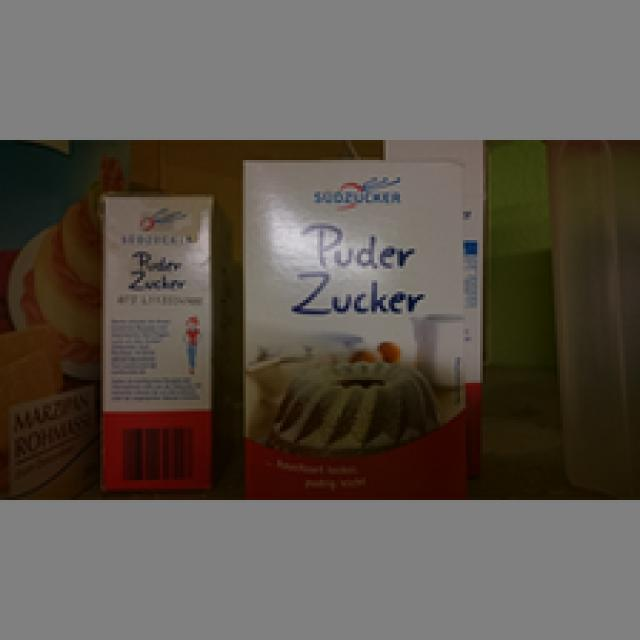groceries: (237, 155, 466, 494), (97, 186, 214, 488)
